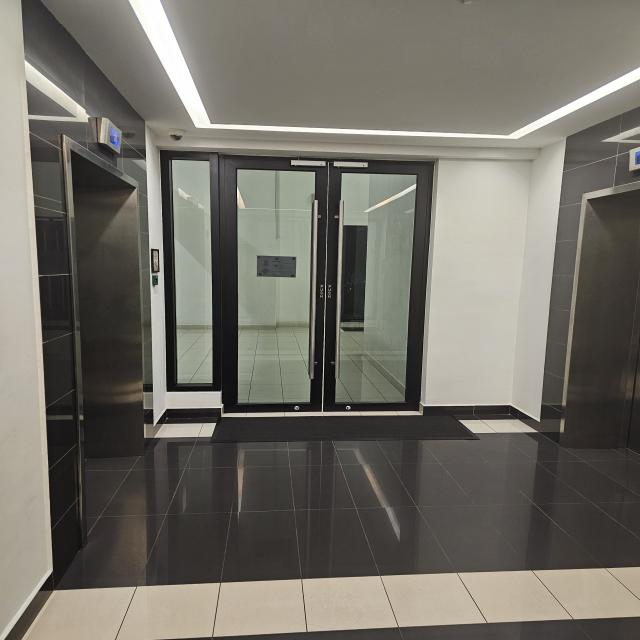door: (209, 150, 446, 423)
footpath: (90, 422, 616, 640)
